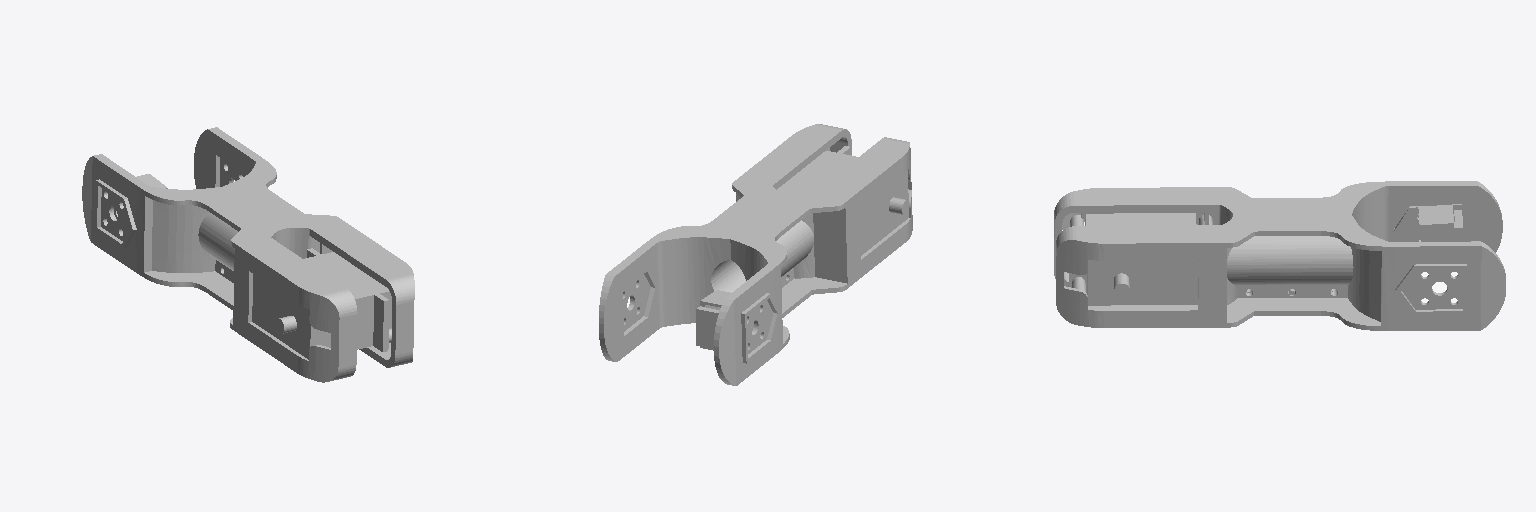
The model's file is lower.obj.
The picture shows the model from 3 angles: view 1: azimuth 30°, elevation 25°; view 2: azimuth 150°, elevation 25°; view 3: azimuth 270°, elevation 25°; orthographic projection.
Visible parts, largest first — view 1: Component9\LOWER11, Component10\LOWER11, Component26\Solid; view 2: Component9\LOWER11, Component10\LOWER11, Component26\Solid, Component25\Solid111, Component21\Solid1111; view 3: Component10\LOWER11, Component9\LOWER11, Component26\Solid, Component21\Solid1111, Component25\Solid111.
Part boxes in pixels (x1,y1,x2,y2): Component9\LOWER11: (82, 154, 357, 382); Component10\LOWER11: (194, 127, 414, 367); Component26\Solid: (252, 248, 391, 359); Component9\LOWER11: (714, 137, 912, 385); Component10\LOWER11: (599, 124, 851, 361); Component26\Solid: (777, 146, 909, 255); Component25\Solid111: (696, 304, 719, 348); Component21\Solid1111: (696, 290, 753, 350); Component10\LOWER11: (1056, 214, 1505, 330); Component9\LOWER11: (1054, 181, 1502, 294); Component26\Solid: (1068, 213, 1198, 305); Component21\Solid1111: (1394, 204, 1463, 241); Component25\Solid111: (1420, 210, 1463, 241).
Size of the model in its own units: 61.38 by 38.36 by 172.